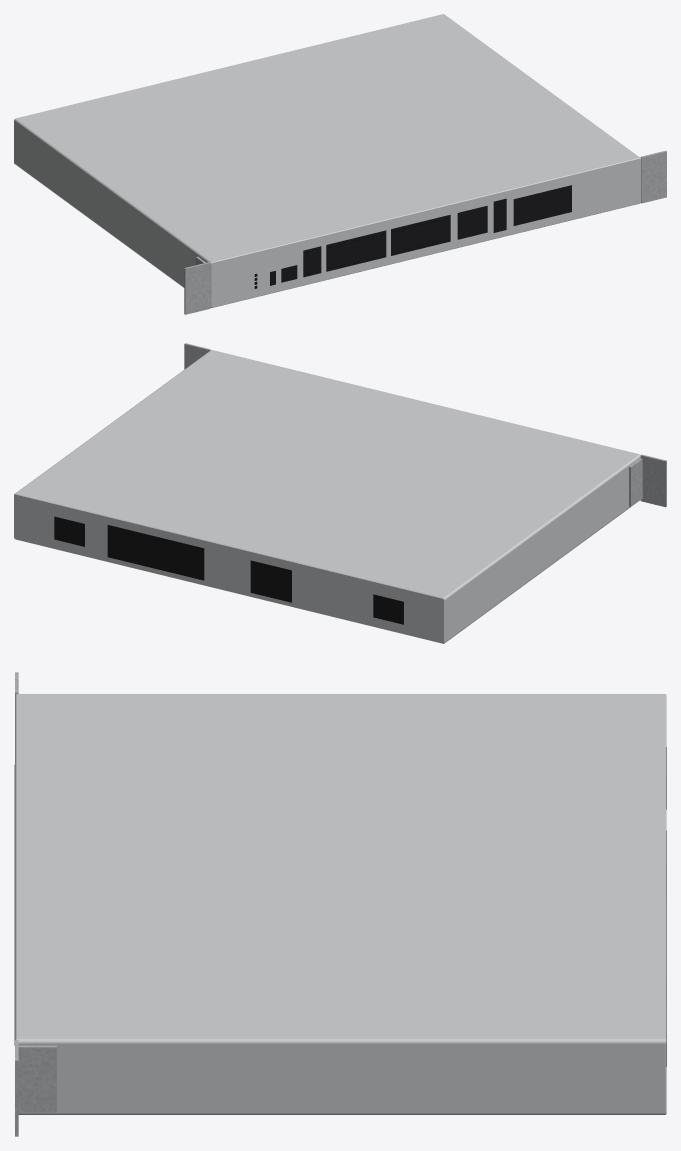
File: FG-200F.far.glb
The picture shows the model from 3 angles, top to bottom: view 1: azimuth 30°, elevation 25°; view 2: azimuth 150°, elevation 25°; view 3: azimuth 270°, elevation 25°; orthographic projection. The views are drawn at different scales.
Parts seen in each view (by area): view 1: Shell_far; view 2: Shell_far; view 3: Shell_far.
Part boxes in pixels (x1=…): Shell_far: x1=14, y1=14, x2=666, y2=314; Shell_far: x1=14, y1=343, x2=666, y2=643; Shell_far: x1=14, y1=672, x2=666, y2=1136.
Bounding box in the file's own units: 0.4826 × 0.044 × 0.3428.
Materials: 3 (2 with a texture image).
